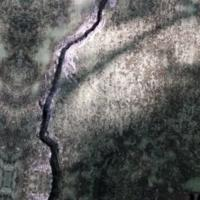crack: (35, 0, 119, 199)
